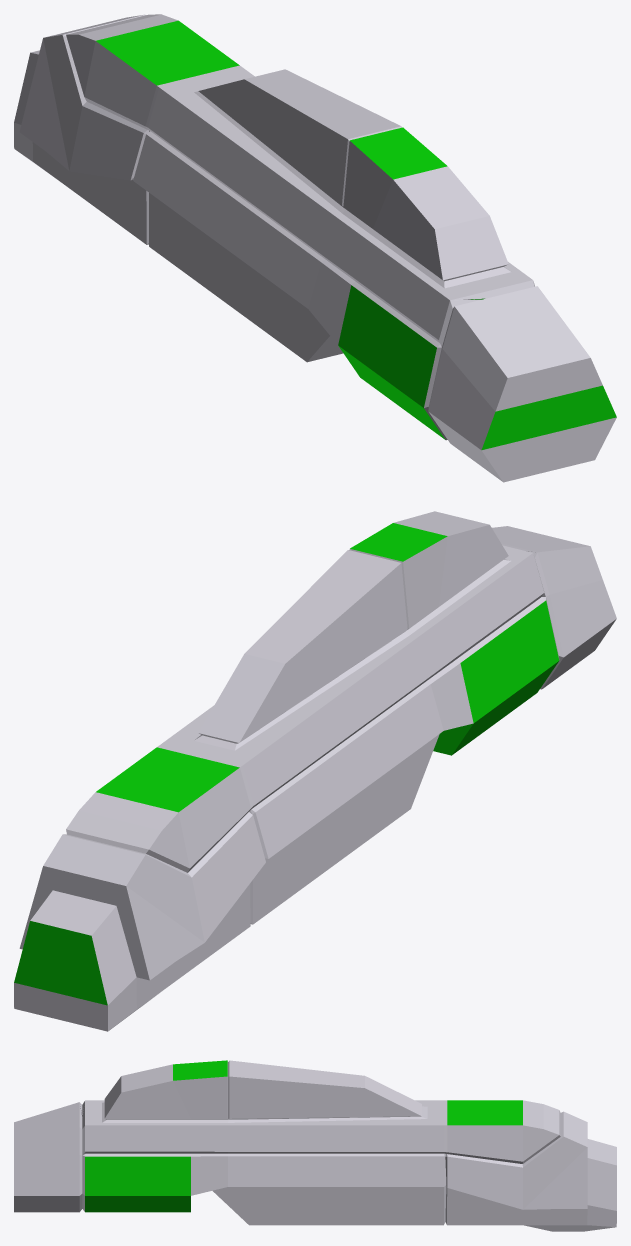
File: hull.slick.fbx
The picture shows the model from 3 angles, top to bottom: view 1: azimuth 30°, elevation 25°; view 2: azimuth 150°, elevation 25°; view 3: azimuth 270°, elevation 25°; orthographic projection. The views are drawn at different scales.
Visible parts, largest first — view 1: hull.slick; view 2: hull.slick; view 3: hull.slick.
Boxes of the visible parts, bbox=[...] form: hull.slick: bbox=[14, 14, 616, 482]; hull.slick: bbox=[14, 511, 616, 1031]; hull.slick: bbox=[14, 1060, 616, 1231].
Bounding box in the file's own units: 1.42 × 2.5 × 8.84.
